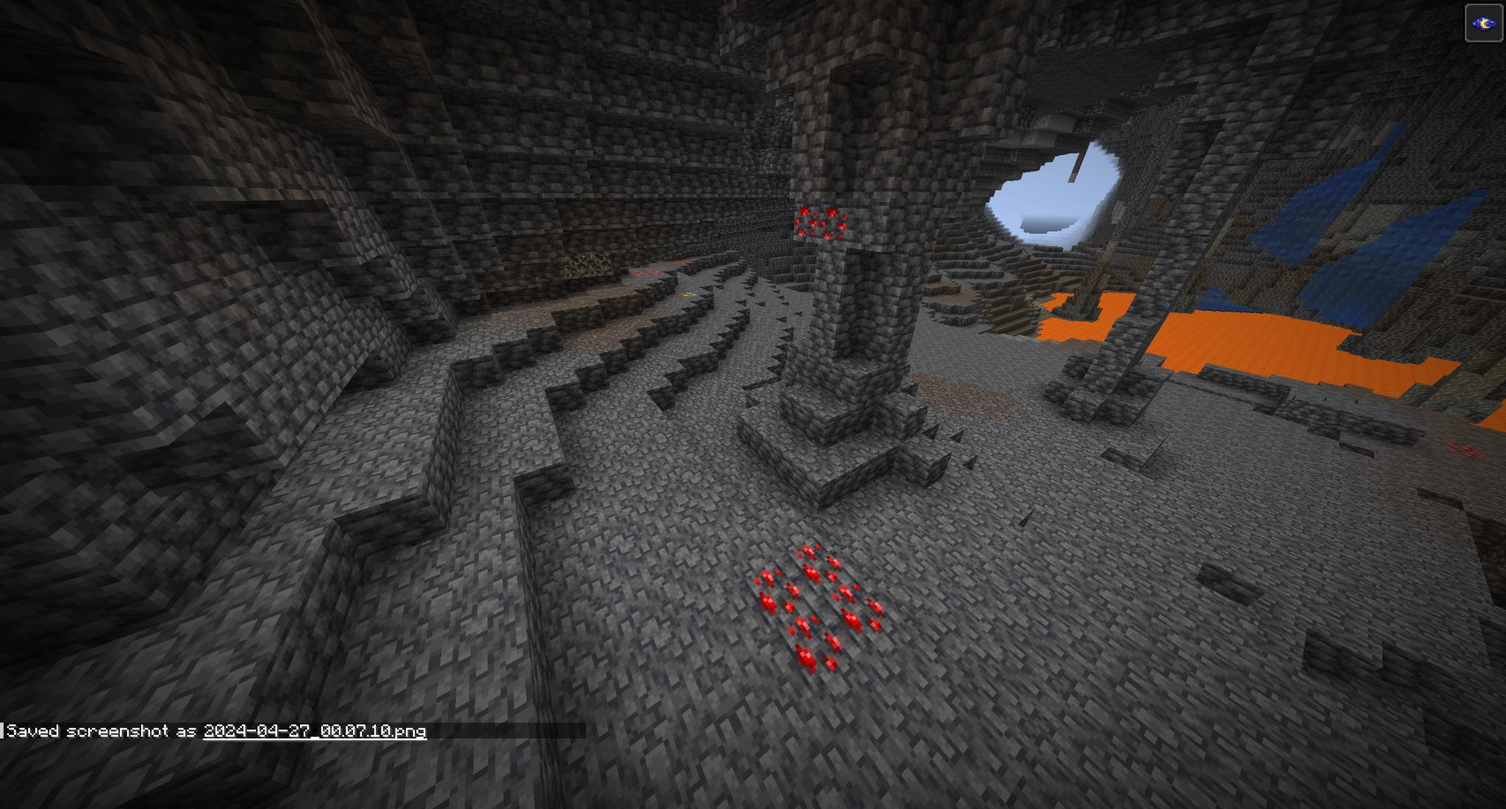redstone ore: (785, 614, 843, 677), (833, 581, 885, 646), (750, 565, 800, 624), (793, 538, 842, 587), (790, 199, 822, 245), (821, 206, 861, 241)
